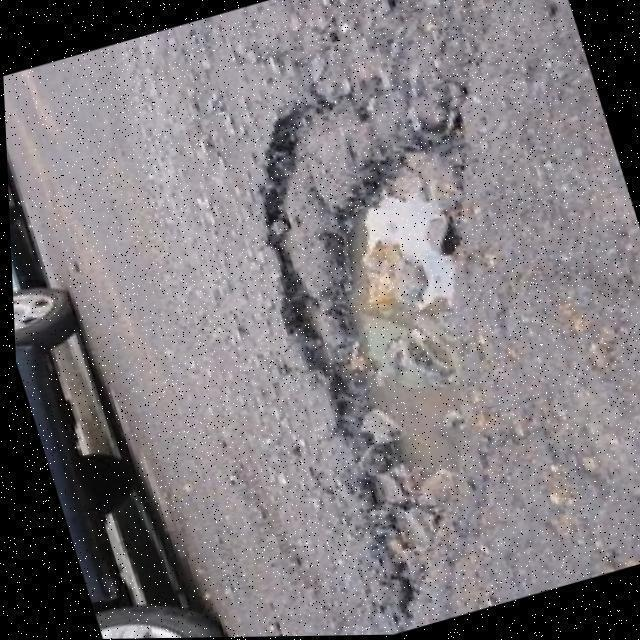Pothole: (261, 101, 480, 628)
